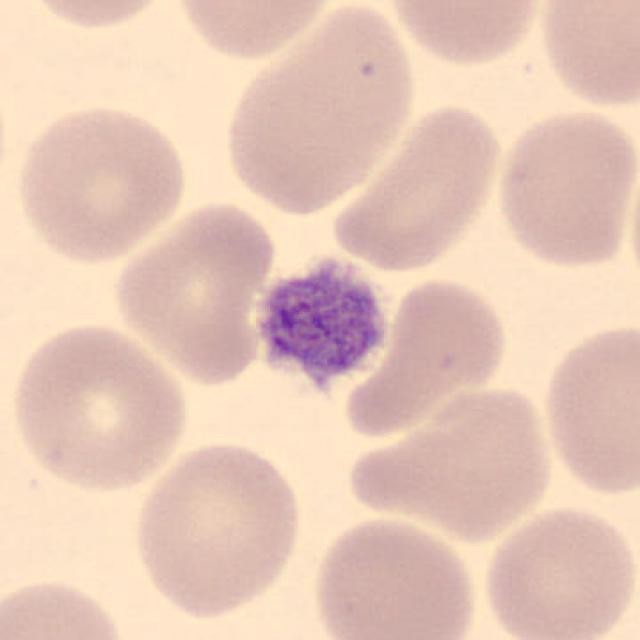Platelets: (241, 242, 401, 412)
RBC: (218, 0, 420, 217), (342, 379, 558, 543), (5, 318, 194, 498), (126, 436, 308, 622), (107, 196, 281, 388), (324, 99, 506, 275), (10, 99, 194, 268), (491, 102, 638, 272), (476, 499, 636, 640), (308, 511, 482, 640), (370, 274, 514, 408), (537, 314, 640, 501), (533, 0, 640, 115), (384, 0, 546, 69), (168, 0, 339, 63), (0, 573, 135, 640), (10, 0, 181, 33)
